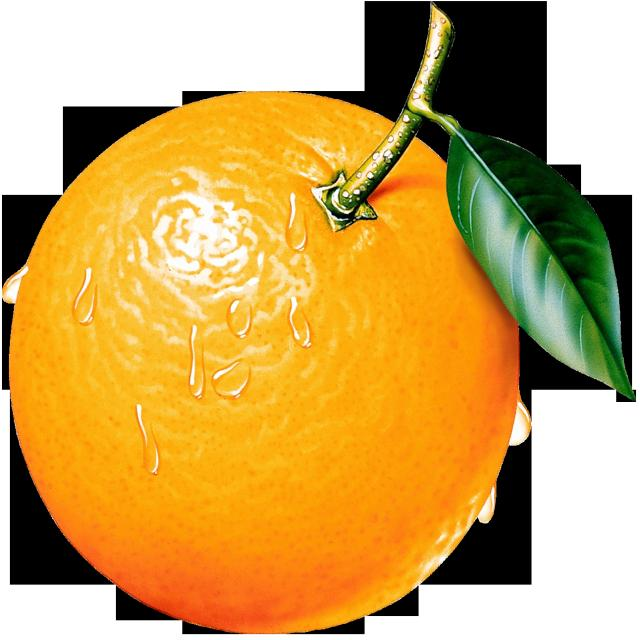orange: (12, 90, 521, 629)
